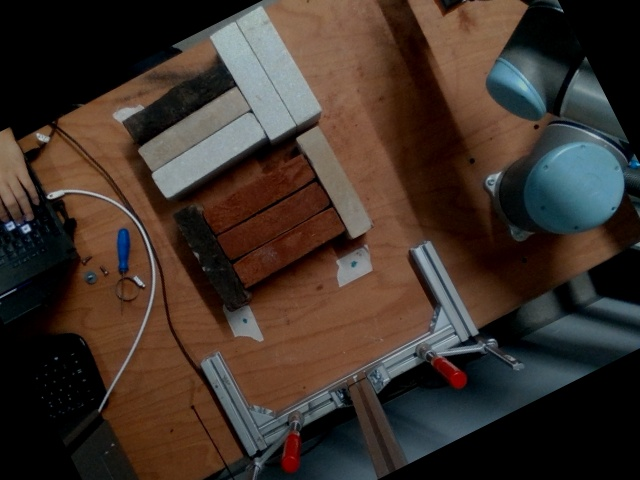brick-side: (208, 18, 297, 141), (235, 3, 324, 125), (136, 84, 252, 172), (150, 110, 266, 197), (121, 59, 237, 146), (215, 179, 329, 259), (232, 206, 345, 286), (202, 154, 315, 234), (170, 200, 250, 311), (297, 125, 374, 237)
